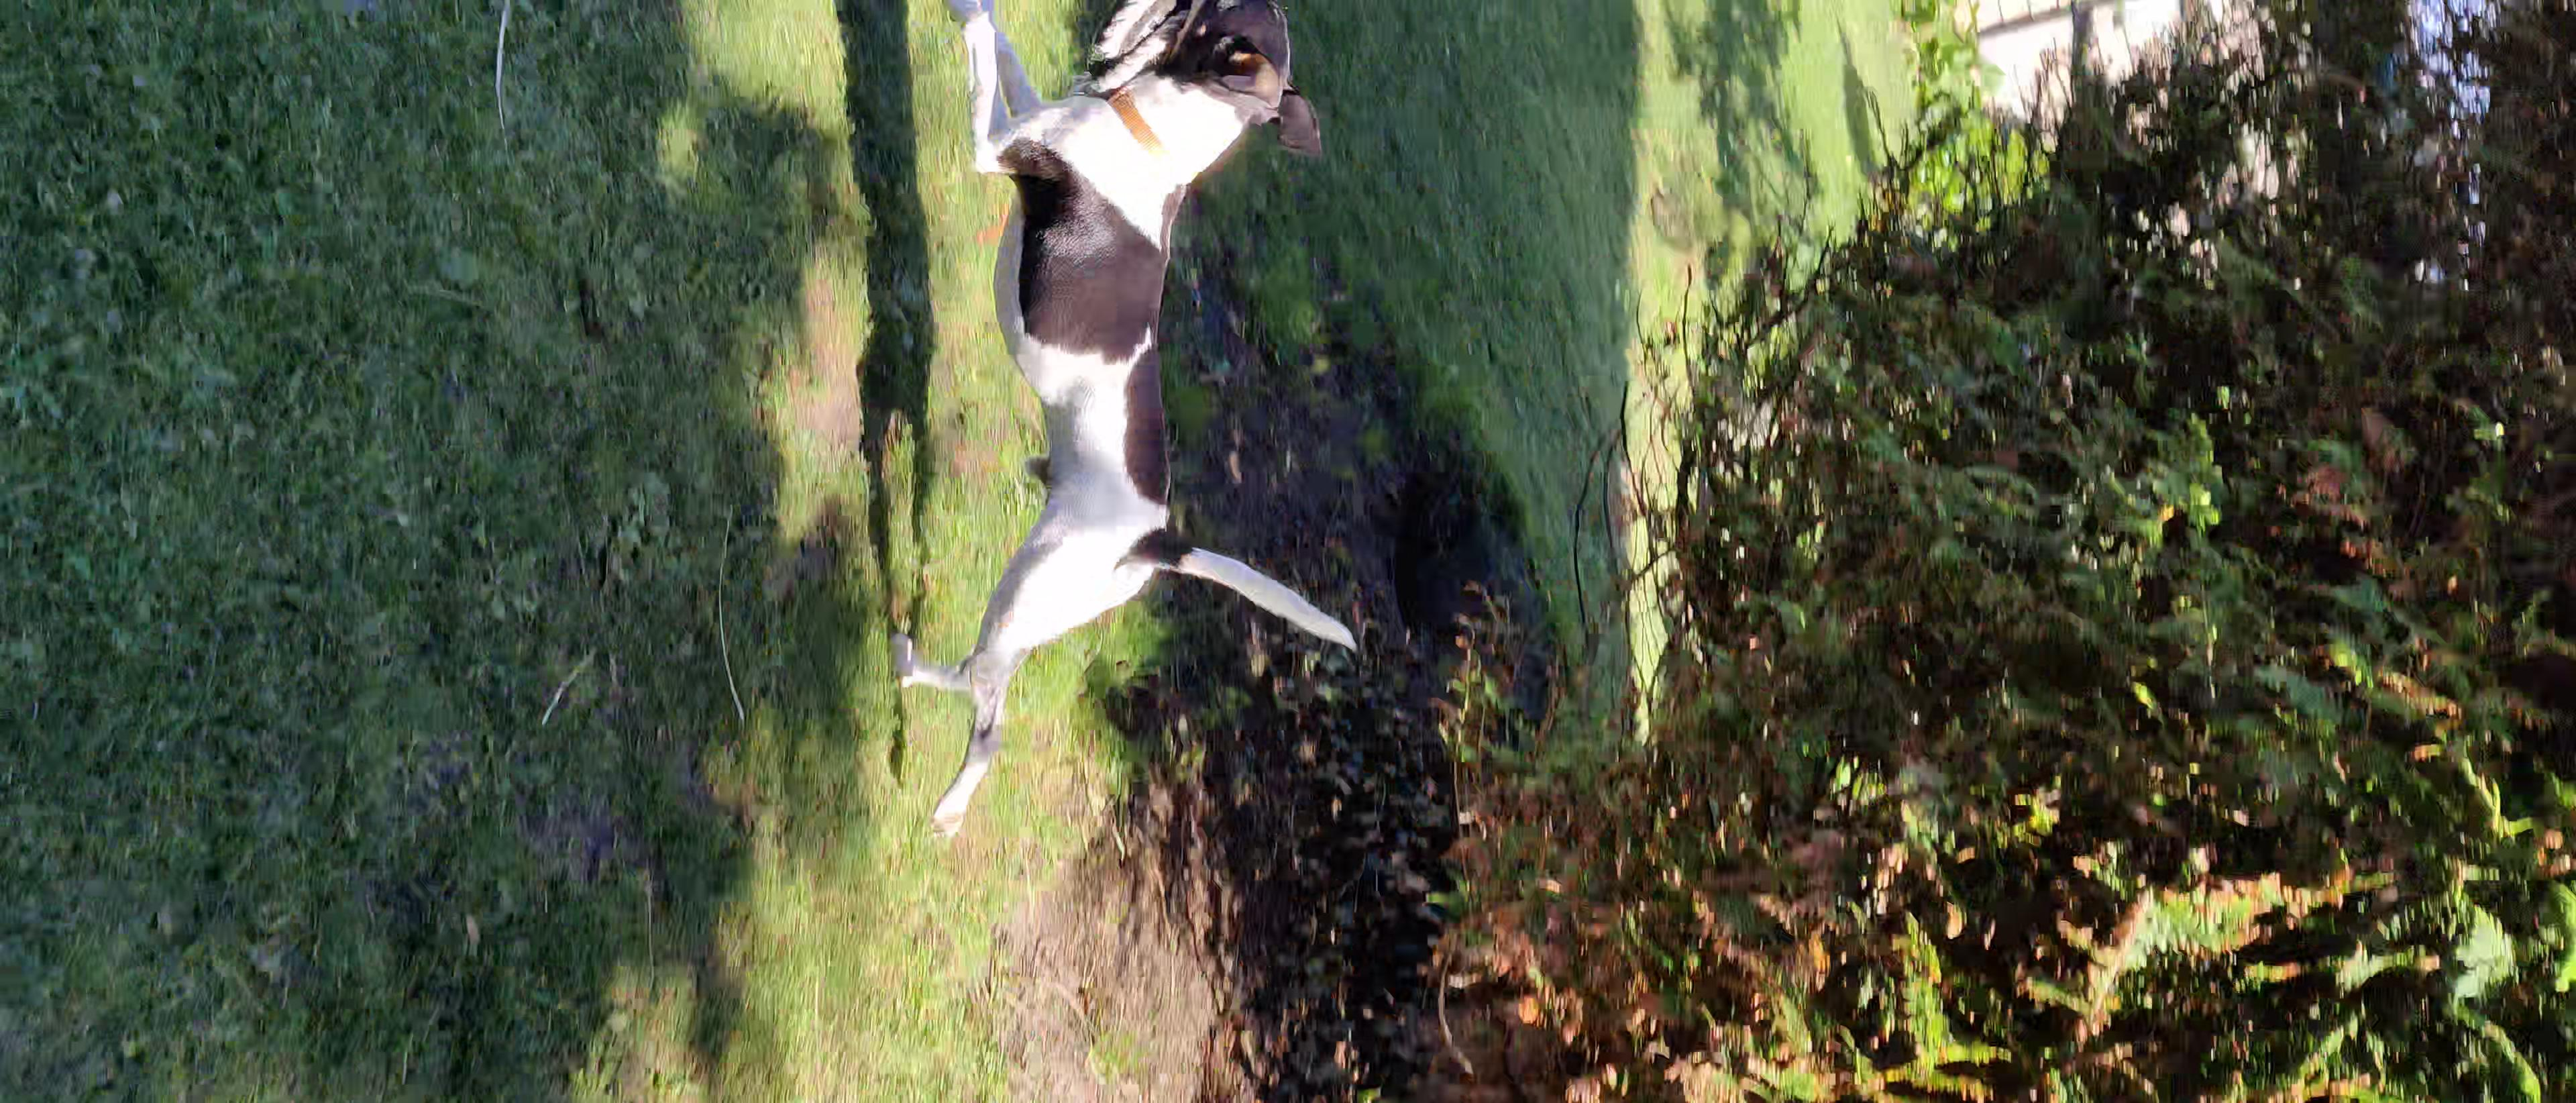Dog: (882, 0, 1364, 861)
